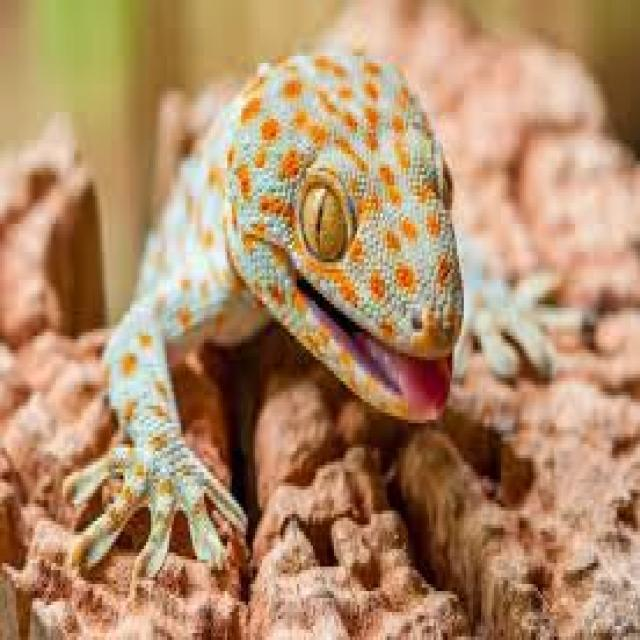Lizard: (69, 39, 529, 582)
